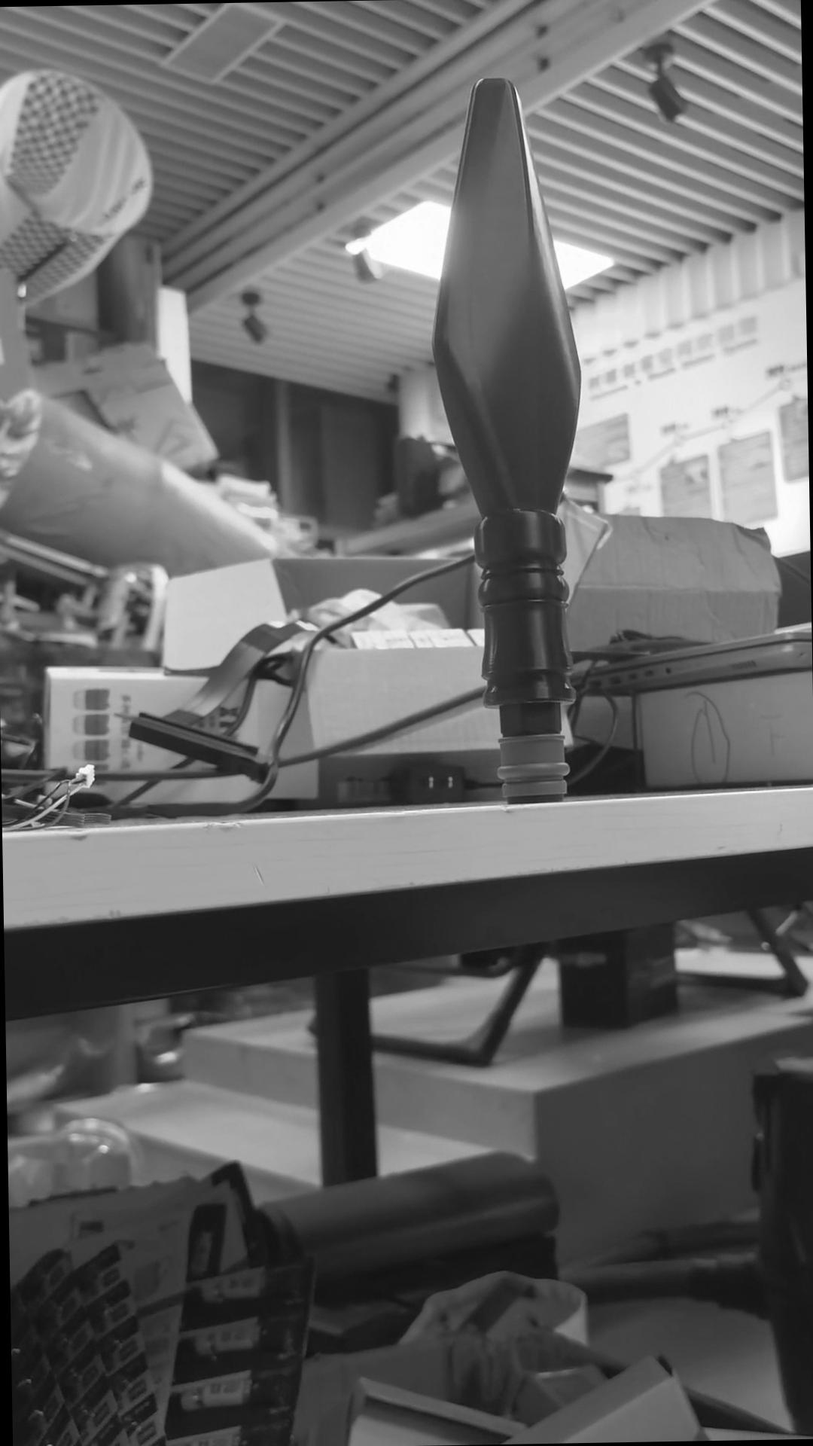base: (494, 723, 587, 810)
